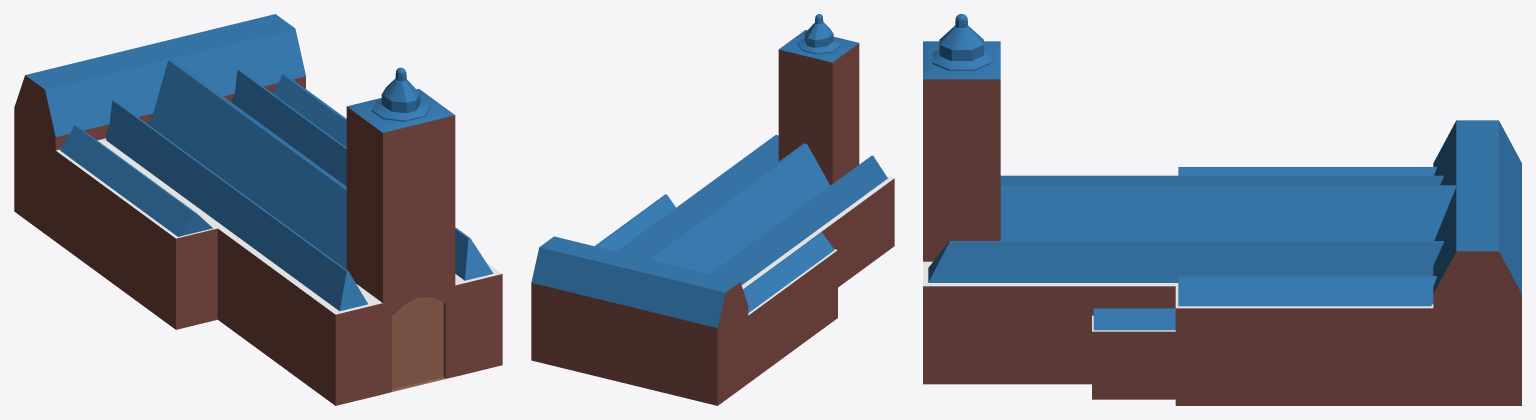
File: Museum 1.fbx
3 renders of one model, left to right at view 1: azimuth 30°, elevation 25°; view 2: azimuth 150°, elevation 25°; view 3: azimuth 270°, elevation 25°, orthographic. The views are drawn at different scales.
Visible parts, largest first — view 1: Plane; view 2: Plane; view 3: Plane.
Boxes of the visible parts, box(x1,y1,x2,y2) form: Plane: box(14, 14, 502, 405); Plane: box(531, 17, 894, 405); Plane: box(923, 18, 1521, 405).
Bounding box in the file's own units: 200 × 232 × 386.
